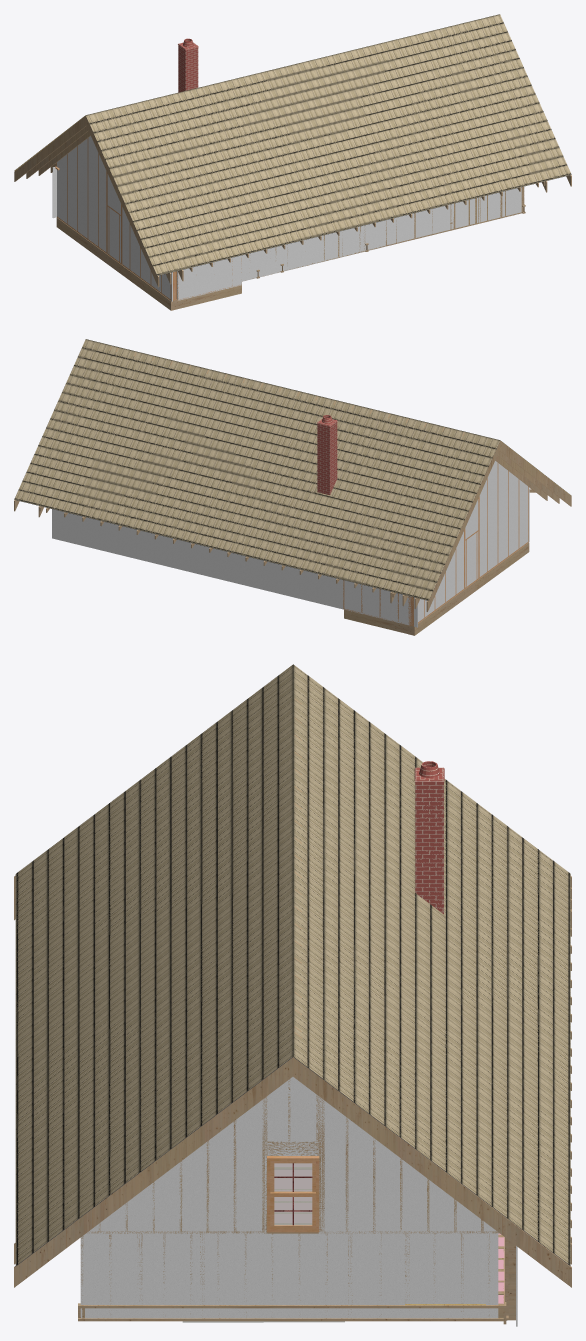
Rendered from attic.dae.
The picture shows the model from 3 angles, top to bottom: view 1: azimuth 30°, elevation 25°; view 2: azimuth 150°, elevation 25°; view 3: azimuth 270°, elevation 25°; orthographic projection. The views are drawn at different scales.
Parts seen in each view (by area): view 1: SketchUp (×10); view 2: SketchUp (×11); view 3: SketchUp (×9).
Boxes of the visible parts, x1=… form: SketchUp (×10): x1=14, y1=14, x2=571, y2=310; SketchUp (×11): x1=14, y1=339, x2=571, y2=635; SketchUp (×9): x1=14, y1=664, x2=571, y2=1321.
Bounding box in the file's own units: 549 × 330 × 223.
19 materials, 8 textured.
